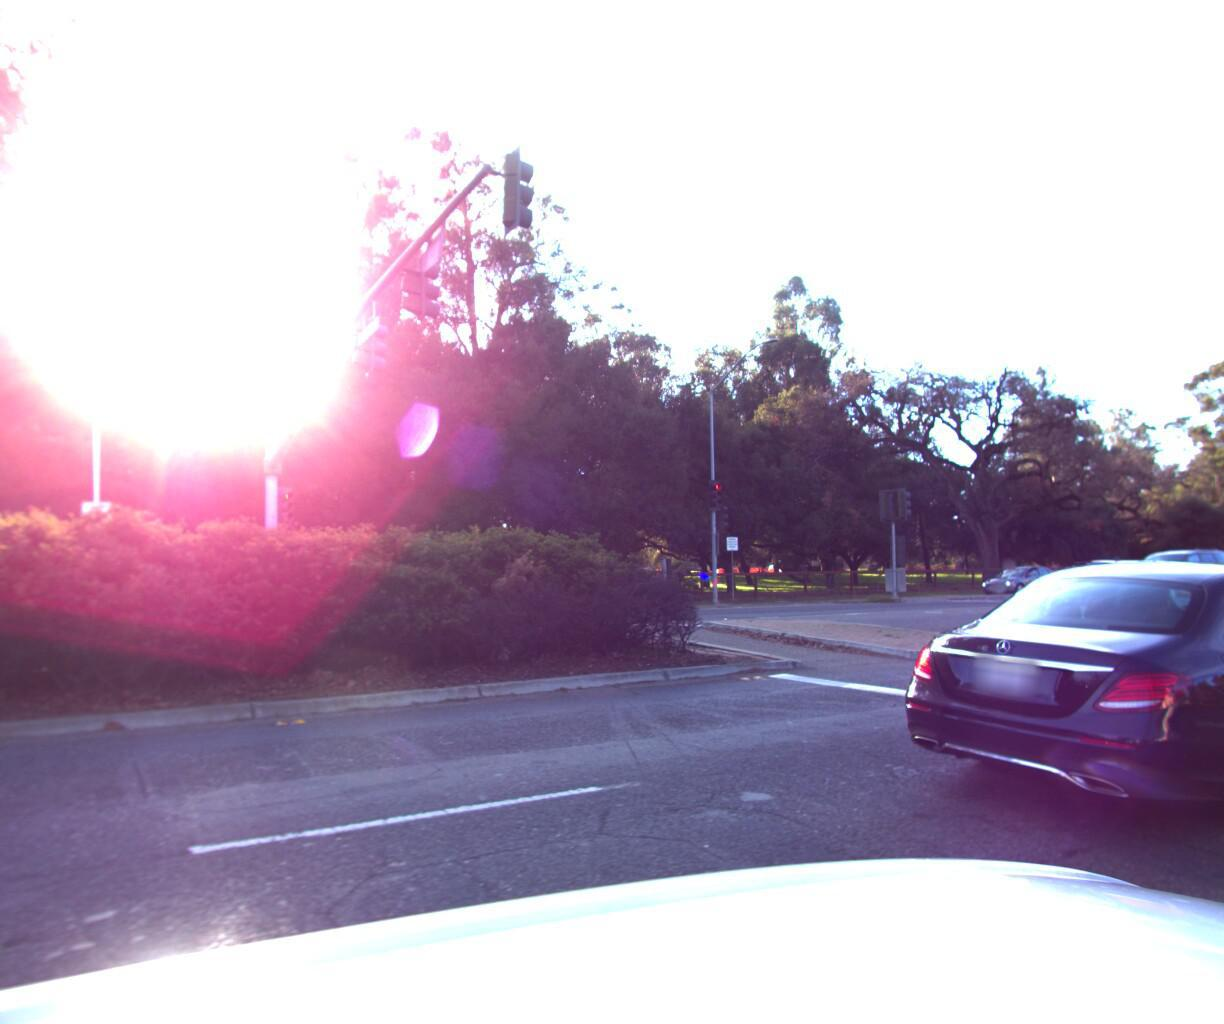car: (877, 546, 1224, 861), (981, 549, 1224, 677), (1113, 542, 1224, 598), (971, 561, 1066, 594), (1218, 559, 1224, 585)
